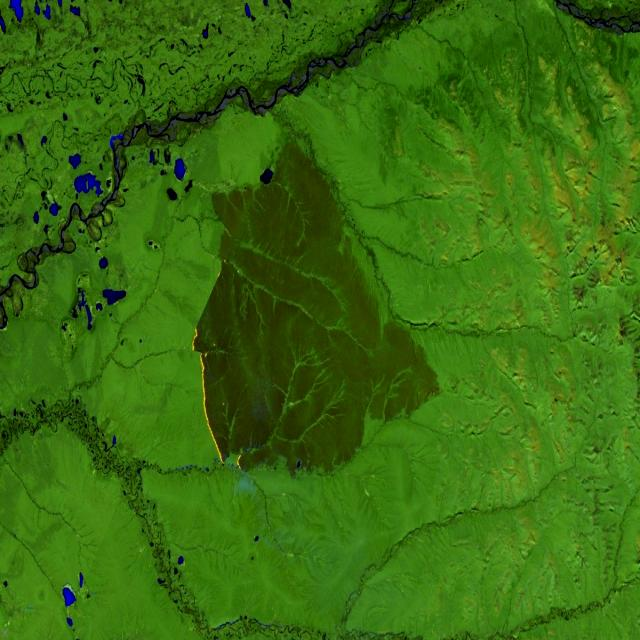fire: (188, 319, 248, 478)
